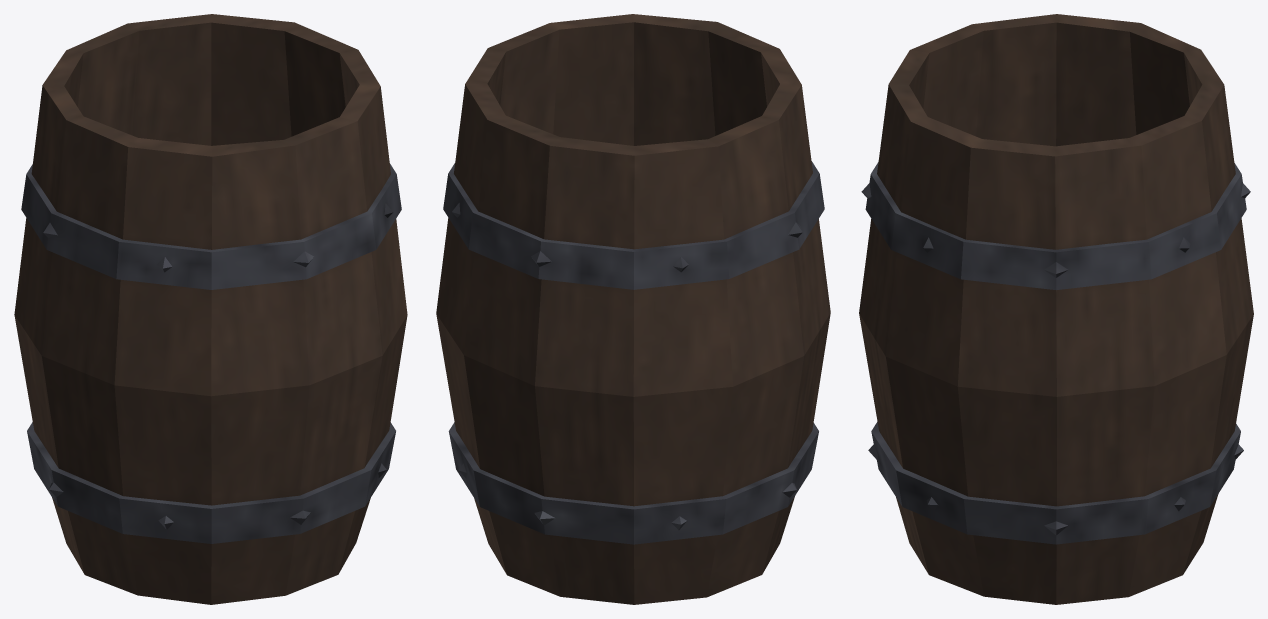
Rendered from barrel_02.glb.
3 views of the same model, side by side, from view 1: azimuth 30°, elevation 25°; view 2: azimuth 150°, elevation 25°; view 3: azimuth 270°, elevation 25° (orthographic).
Parts seen in each view (by area): view 1: barrel_02; view 2: barrel_02; view 3: barrel_02.
Boxes of the visible parts, left/top/right/bottom form: barrel_02: left=14, top=14, right=407, bottom=604; barrel_02: left=436, top=14, right=830, bottom=604; barrel_02: left=859, top=14, right=1253, bottom=604.
Size of the model in its own units: 0.6974 by 0.9036 by 0.7026.
Materials: 2 (2 with a texture image).
